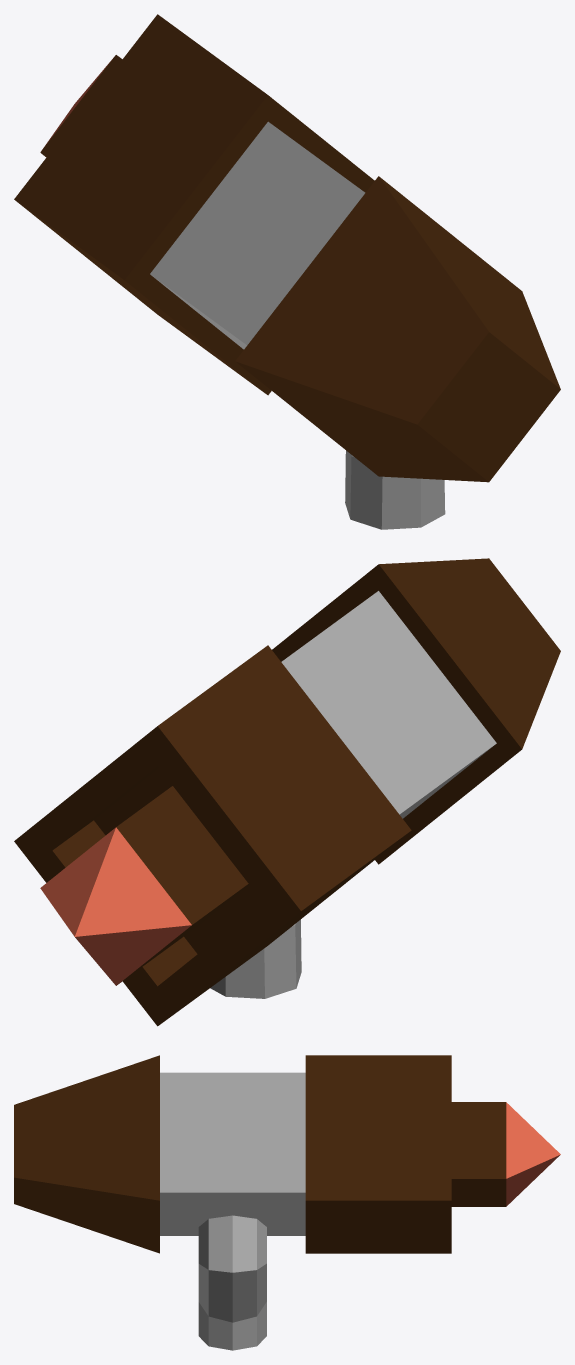
The model's file is PlayerRocketL1.glb.
3 renders of one model, top to bottom at view 1: azimuth 30°, elevation 25°; view 2: azimuth 150°, elevation 25°; view 3: azimuth 270°, elevation 25°, orthographic. The views are drawn at different scales.
Parts seen in each view (by area): view 1: RocketL2; view 2: RocketL2; view 3: RocketL2.
Part boxes in pixels (x1,y1,x2,y2): RocketL2: [14, 14, 560, 529]; RocketL2: [14, 558, 560, 1026]; RocketL2: [14, 1055, 560, 1350].
Size of the model in its own units: 0.4117 by 0.52 by 1.
